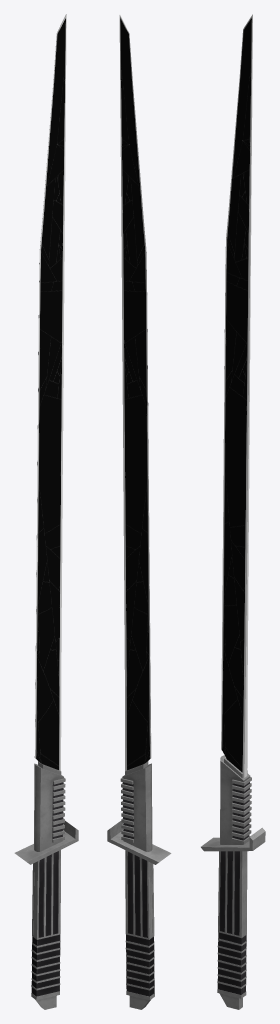
The model's file is DarkSaber.fbx.
3 renders of one model, left to right at view 1: azimuth 30°, elevation 25°; view 2: azimuth 150°, elevation 25°; view 3: azimuth 330°, elevation 25°, orthographic.
Parts seen in each view (by area): view 1: DarkSaberBlade, DarkSaberGrip; view 2: DarkSaberBlade, DarkSaberGrip; view 3: DarkSaberBlade, DarkSaberGrip.
Boxes of the visible parts, x1=… form: DarkSaberBlade: x1=34, y1=14, x2=66, y2=770; DarkSaberGrip: x1=14, y1=761, x2=78, y2=1009; DarkSaberBlade: x1=119, y1=14, x2=151, y2=771; DarkSaberGrip: x1=107, y1=761, x2=171, y2=1009; DarkSaberBlade: x1=221, y1=14, x2=252, y2=777; DarkSaberGrip: x1=201, y1=755, x2=265, y2=1009.
Bounding box in the file's own units: 0.0627 × 1.14 × 0.0263.
